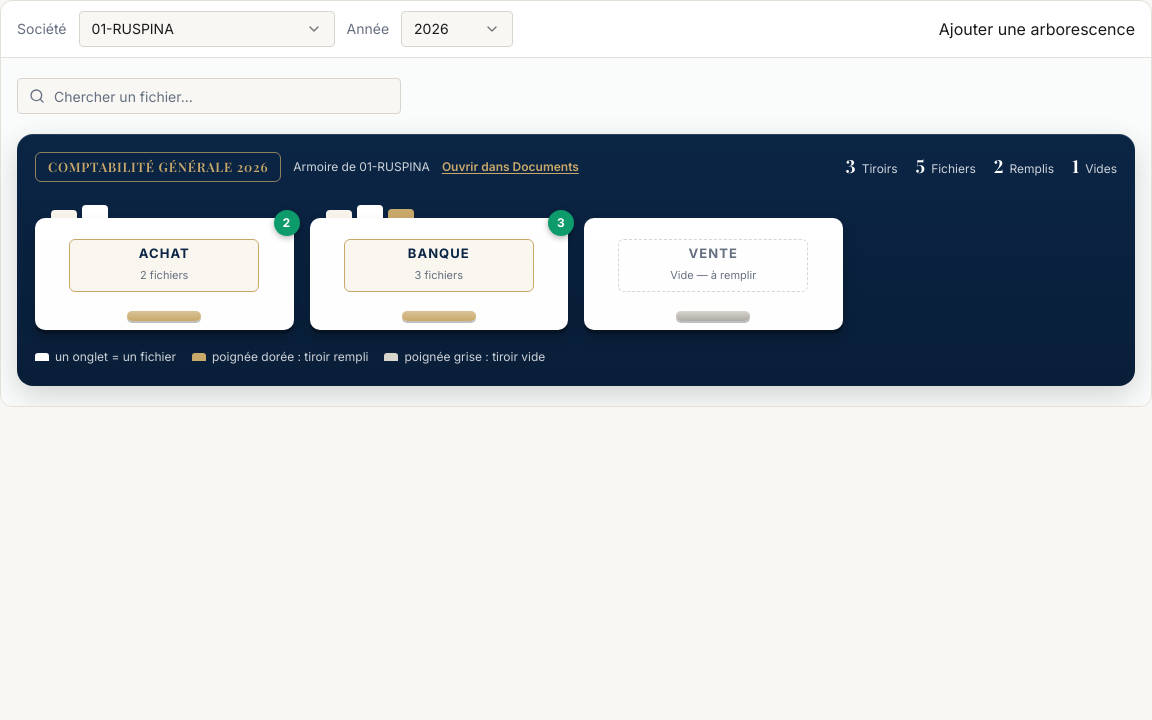
Test case: vue générale : armoire de classement › les sous-dossiers d'un tiroir sont des dossiers suspendus qui filtrent ses fichiers
The width and height of the screenshot is (1152, 720).
Click the button with aria-label "Tiroir banque, 3 fichiers": (439, 266) top-left (310, 202), bottom-right (568, 330)
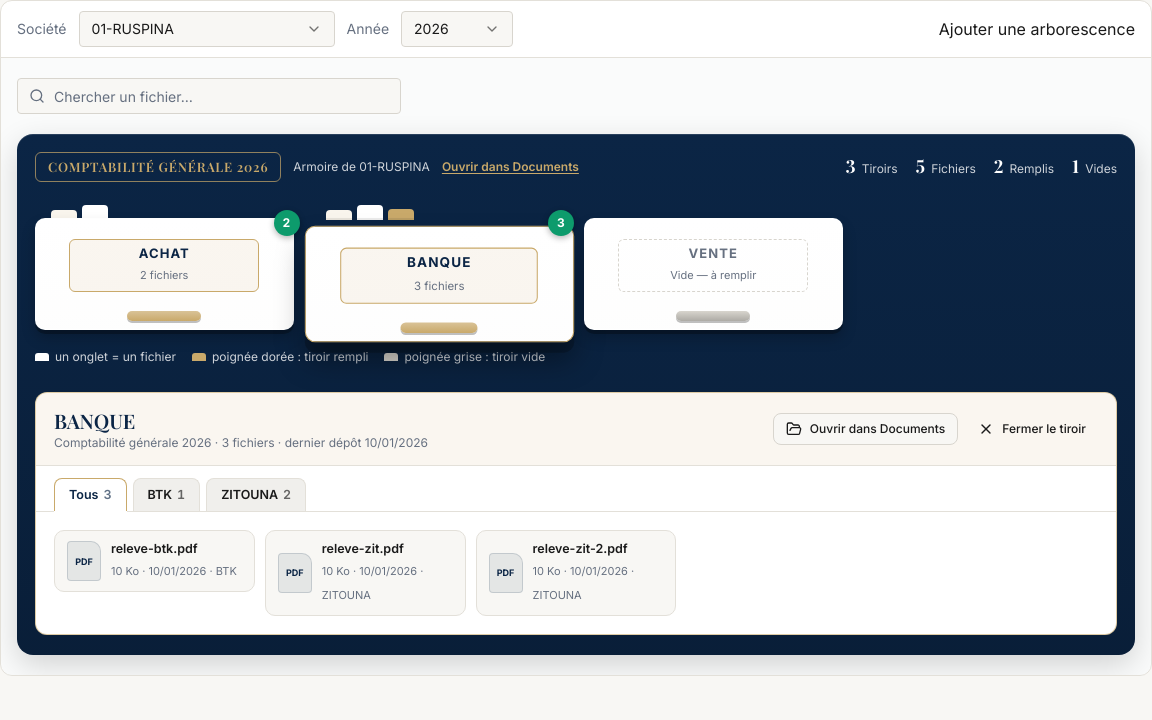
Check: the text "releve-btk.pdf" is shown 3 times, box top-left (111, 541), bottom-right (198, 556); top-left (322, 541), bottom-right (404, 556); top-left (533, 541), bottom-right (628, 556)
Click the button "ZITOUNA2": (256, 494) top-left (206, 478), bottom-right (306, 511)
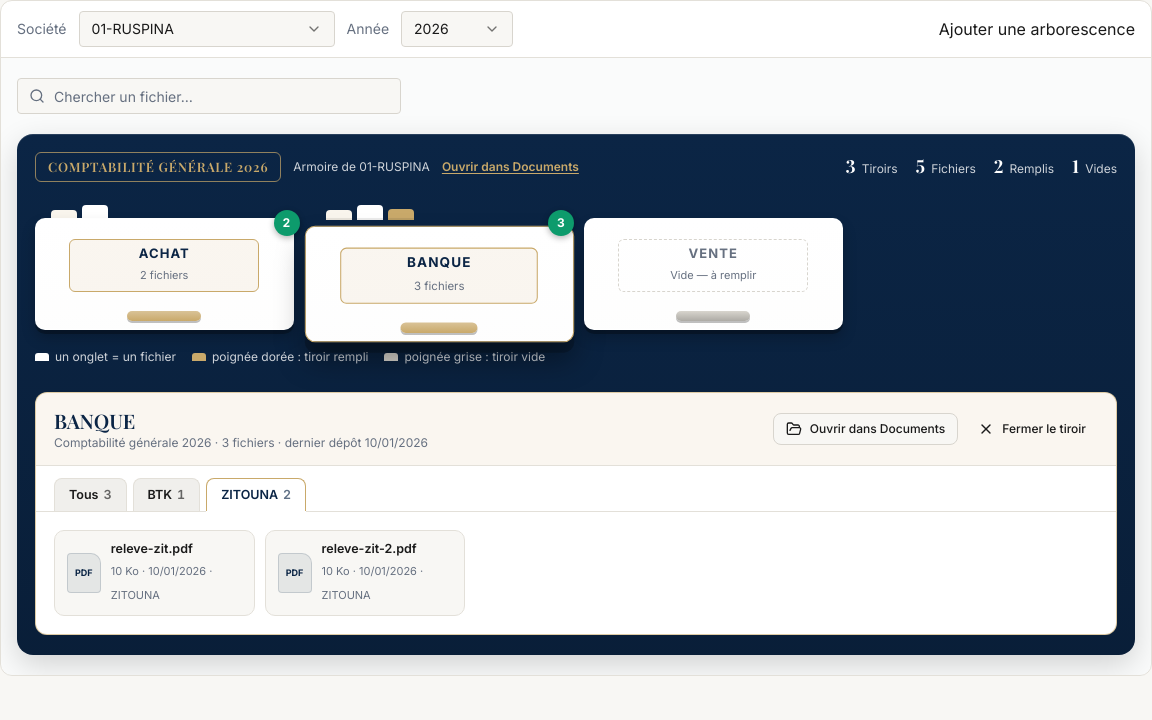
Check: the text "releve-zit.pdf" is shown 2 times, box top-left (111, 541), bottom-right (193, 556); top-left (322, 541), bottom-right (417, 556)
Click the button "BTK1": (166, 494) top-left (132, 478), bottom-right (200, 511)
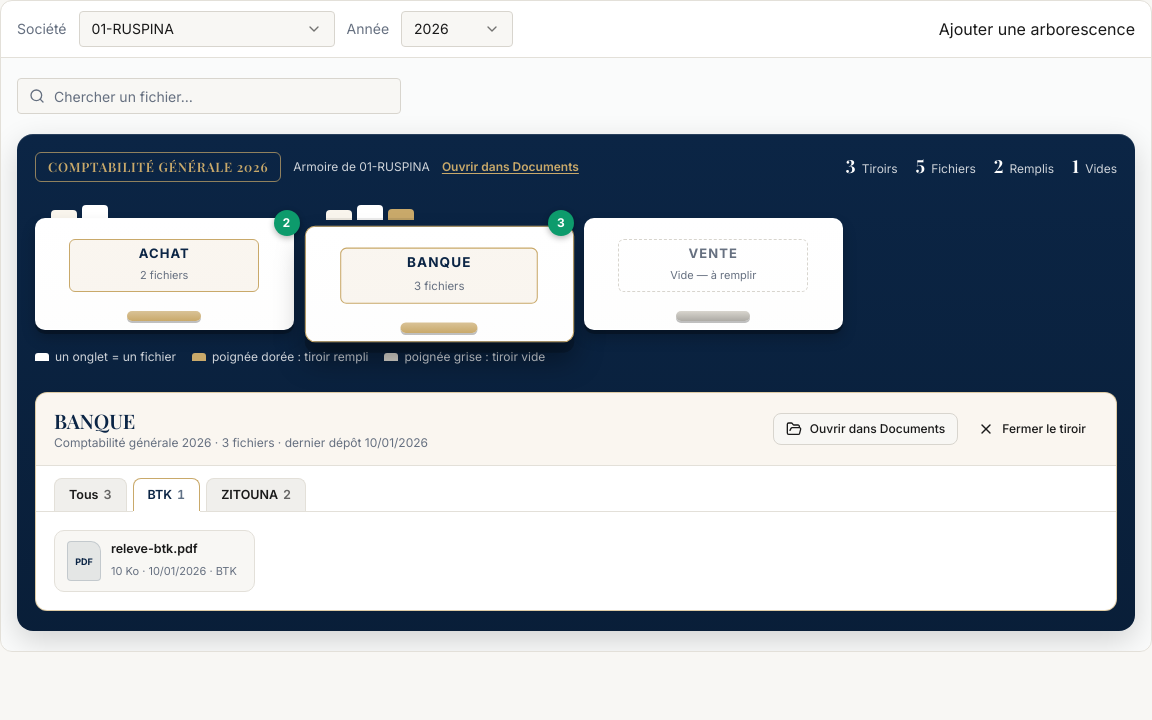
Check: the text "releve-btk.pdf" is shown once, box top-left (111, 541), bottom-right (198, 556)
